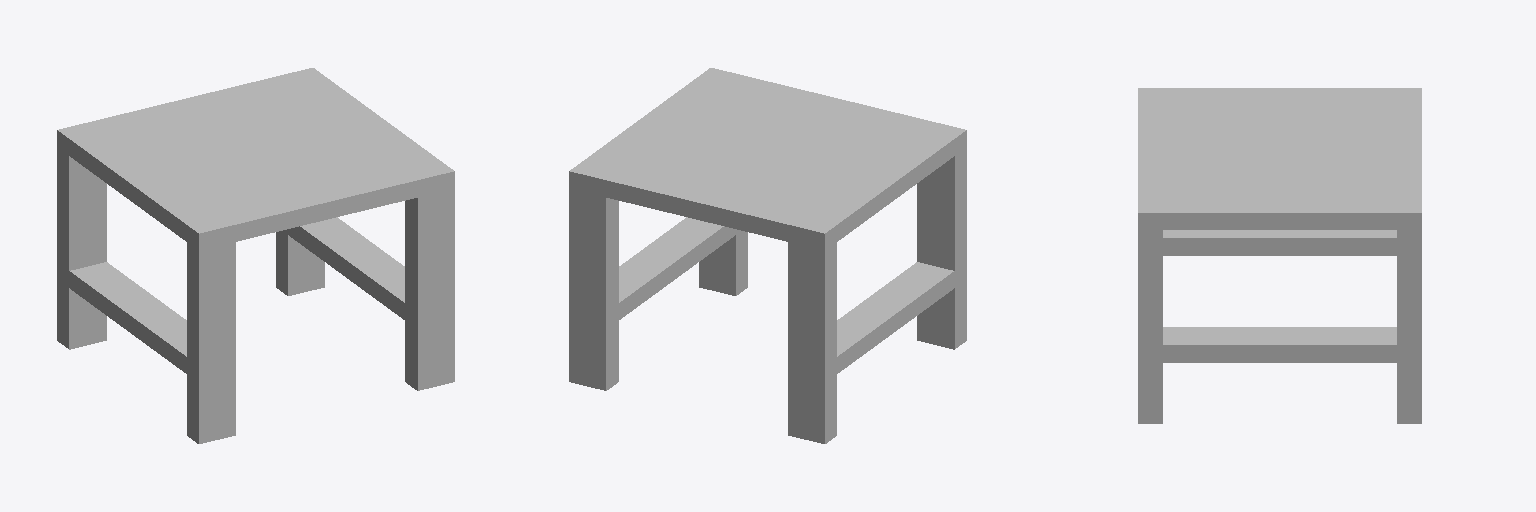
Rendered from Small Dirty Table 01.obj.
The picture shows the model from 3 angles: view 1: azimuth 30°, elevation 25°; view 2: azimuth 150°, elevation 25°; view 3: azimuth 270°, elevation 25°; orthographic projection.
Visible parts, largest first — view 1: Small_Dirty_Table_01_Table_Top_Cube.003; view 2: Small_Dirty_Table_01_Table_Top_Cube.003; view 3: Small_Dirty_Table_01_Table_Top_Cube.003.
Boxes of the visible parts, <box> form: Small_Dirty_Table_01_Table_Top_Cube.003: <box>57,68,454,443</box>; Small_Dirty_Table_01_Table_Top_Cube.003: <box>569,68,966,443</box>; Small_Dirty_Table_01_Table_Top_Cube.003: <box>1138,88,1421,423</box>.
Bounding box in the file's own units: 0.4799 × 0.3777 × 0.4603.